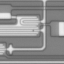dust: (31, 28, 34, 32)
